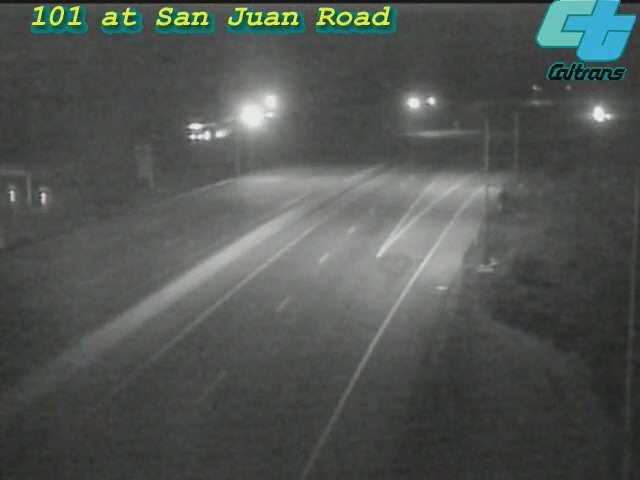vehicle: (574, 88, 624, 138)
